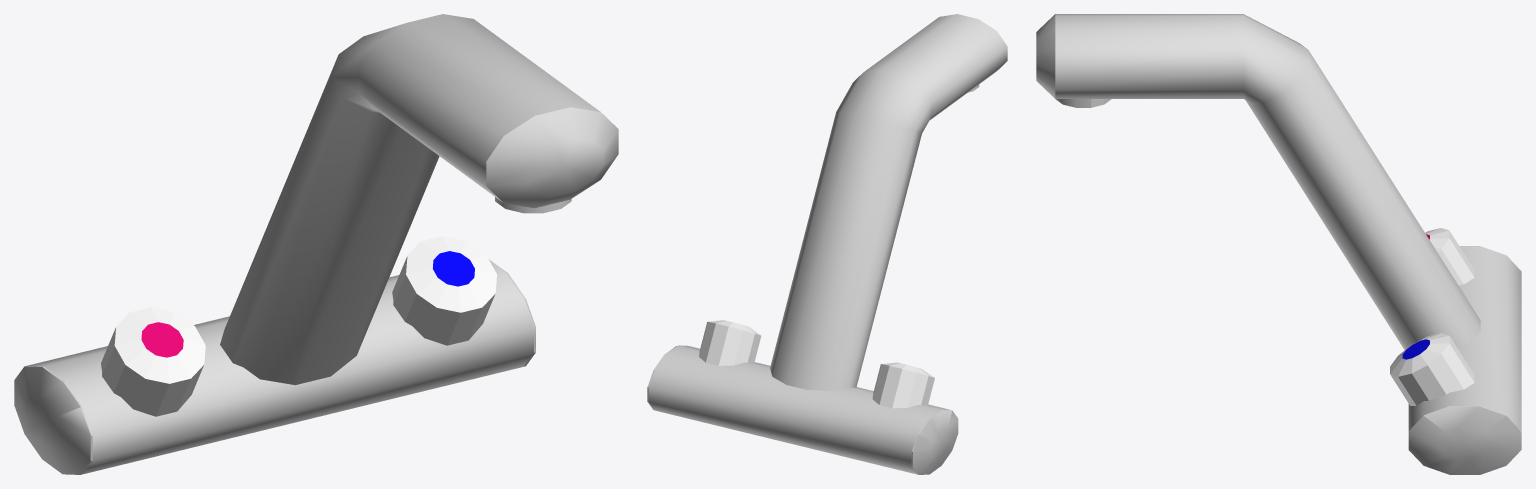
File: faucet-bathroom-chrome.glb
The picture shows the model from 3 angles, left to right: view 1: azimuth 30°, elevation 25°; view 2: azimuth 150°, elevation 25°; view 3: azimuth 270°, elevation 25°; orthographic projection. The views are drawn at different scales.
Parts seen in each view (by area): view 1: symbol; view 2: symbol; view 3: symbol.
Part boxes in pixels (x1,y1,x2,y2): symbol: (14, 14, 618, 474); symbol: (647, 14, 1007, 474); symbol: (1036, 14, 1521, 474).
Size of the model in its own units: 0.1046 by 0.1091 by 0.1288.
